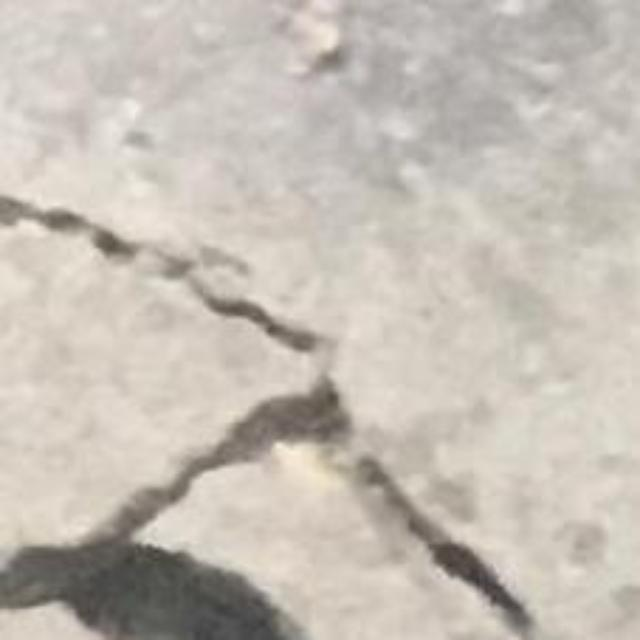crack: (0, 373, 535, 639)
